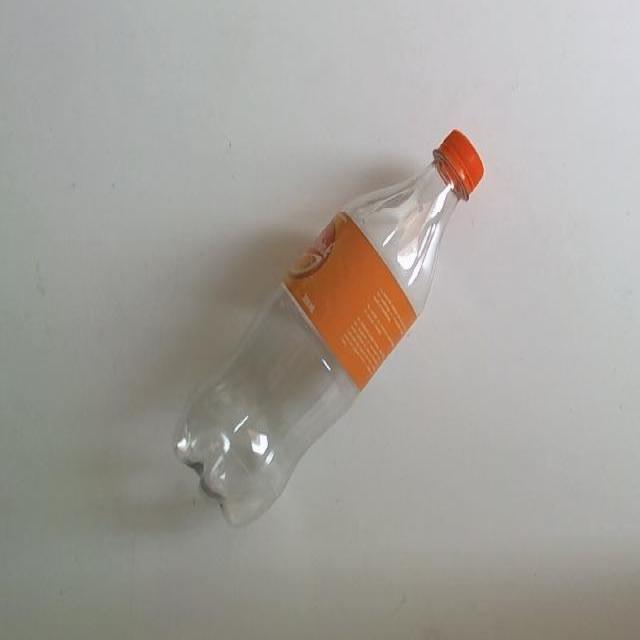non-defect: (172, 128, 485, 531)
